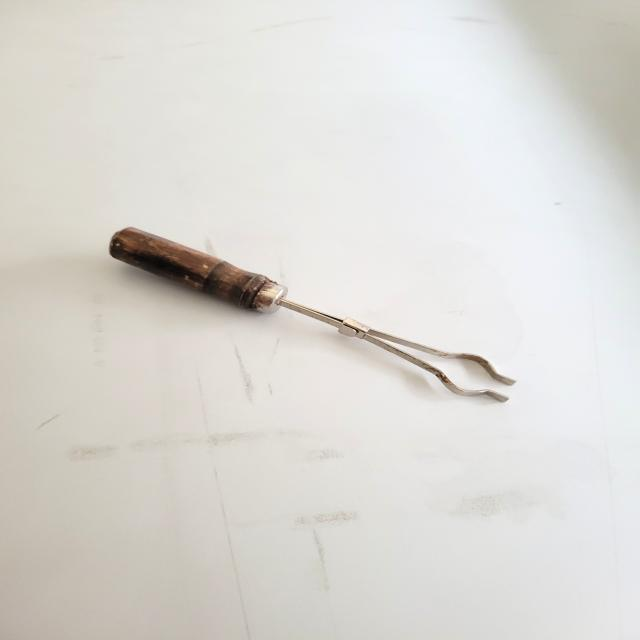TestTube_Holder: (91, 198, 531, 424)
